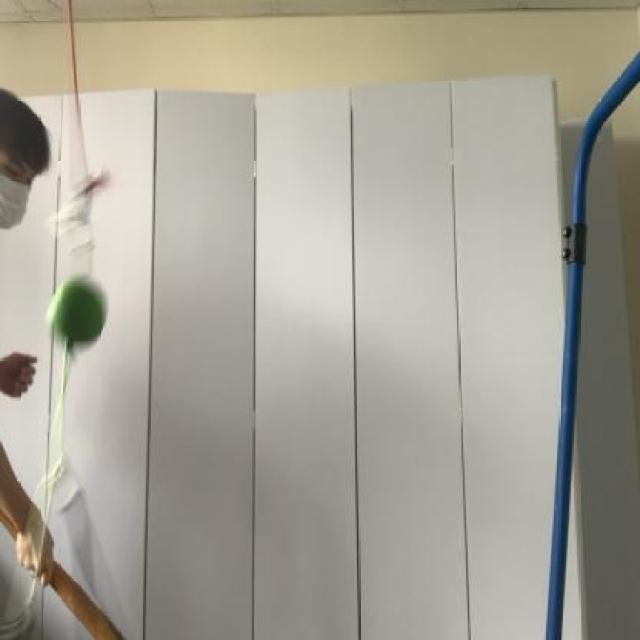baseball: (42, 268, 113, 352)
